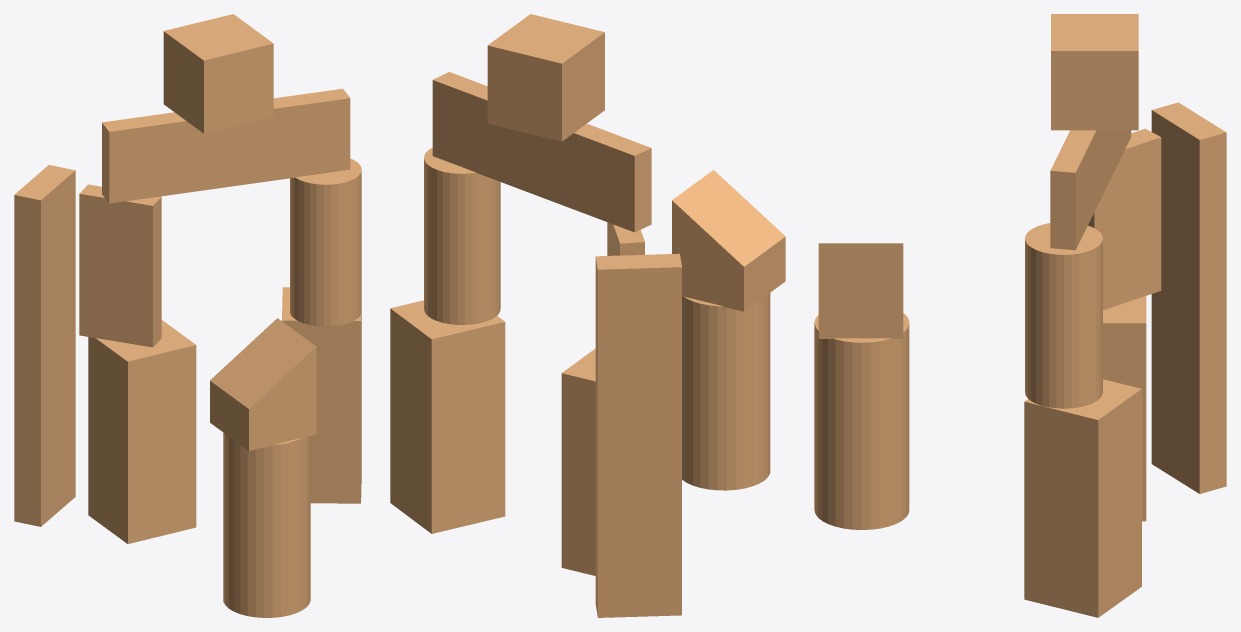
Rendered from Spielbausteine.fbx.
3 renders of one model, left to right at view 1: azimuth 30°, elevation 25°; view 2: azimuth 150°, elevation 25°; view 3: azimuth 270°, elevation 25°, orthographic. The views are drawn at different scales.
Parts seen in each view (by area): view 1: Cube.006; view 2: Cube.006; view 3: Cube.006.
Part boxes in pixels (x1=…): Cube.006: x1=14, y1=14, x2=361, y2=617; Cube.006: x1=390, y1=14, x2=785, y2=617; Cube.006: x1=814, y1=14, x2=1226, y2=617.
Size of the model in its own units: 81.92 by 119 by 86.8.
